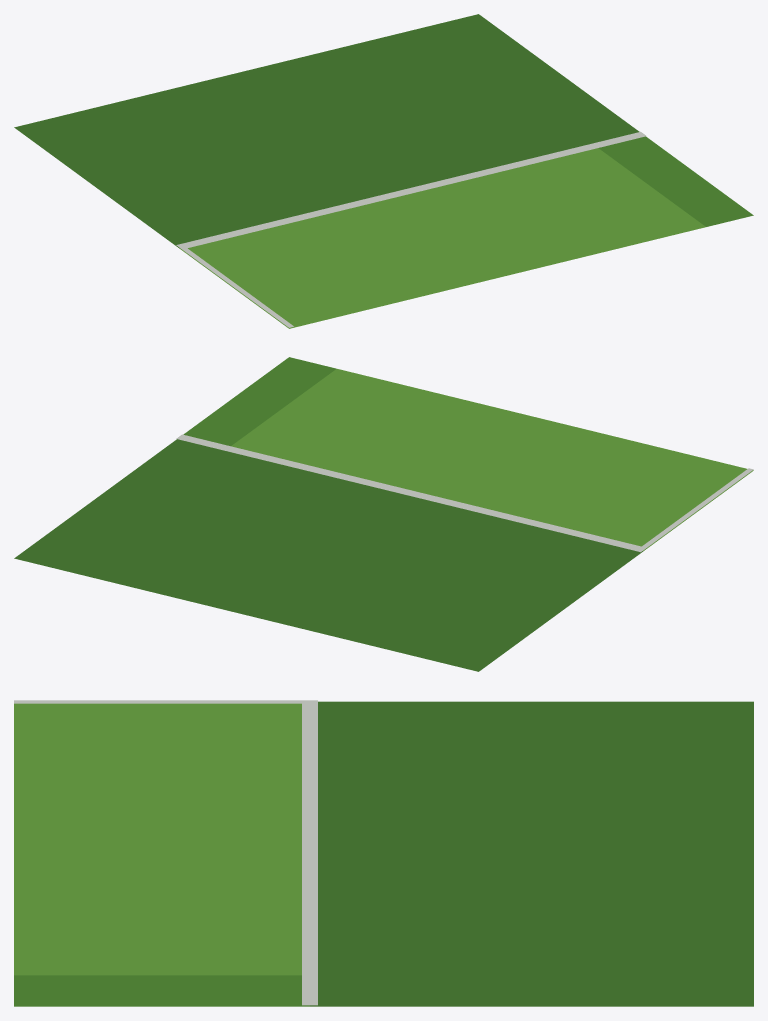
Rendered from pitch_f_6_0.glb.
3 views of the same model, one above another, from view 1: azimuth 30°, elevation 25°; view 2: azimuth 150°, elevation 25°; view 3: azimuth 270°, elevation 25° (orthographic). The views are drawn at different scales.
Visible parts, largest first — view 1: pitch_f_6_0; view 2: pitch_f_6_0; view 3: pitch_f_6_0.
Boxes of the visible parts, x1=… form: pitch_f_6_0: x1=14, y1=14, x2=753, y2=328; pitch_f_6_0: x1=14, y1=357, x2=753, y2=671; pitch_f_6_0: x1=14, y1=700, x2=753, y2=1006.
Size of the model in its own units: 9.75 by 0.02 by 10.
